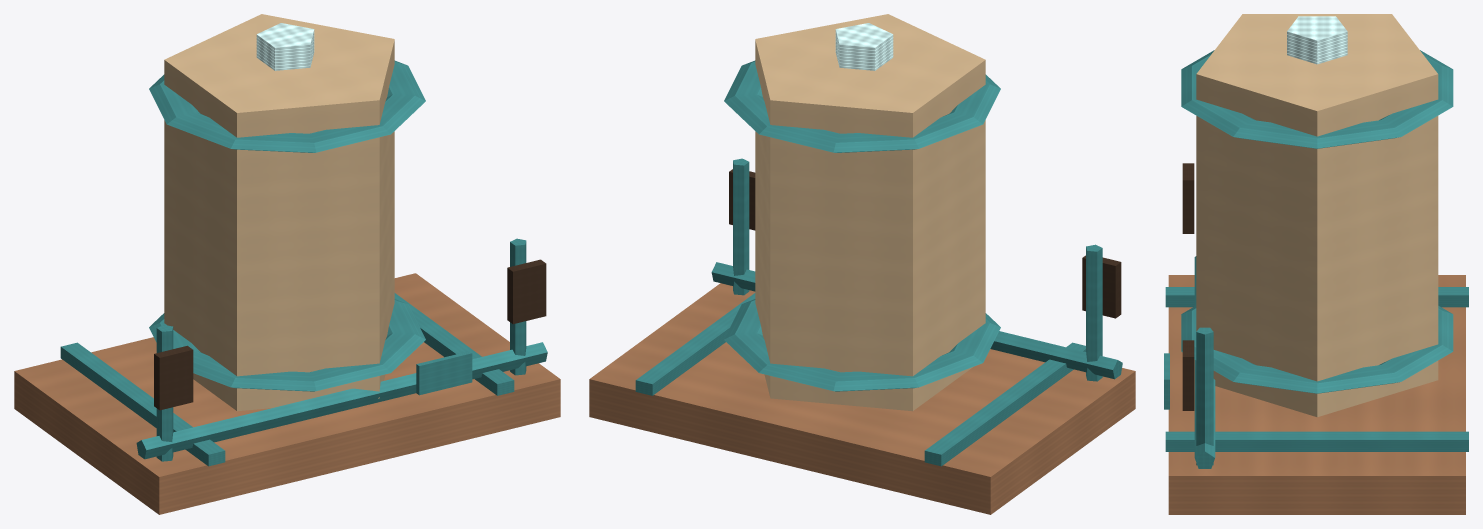
File: atlas100-s094-a02.lod1.glb
The picture shows the model from 3 angles, left to right: view 1: azimuth 30°, elevation 25°; view 2: azimuth 150°, elevation 25°; view 3: azimuth 270°, elevation 25°; orthographic projection. The views are drawn at different scales.
Parts seen in each view (by area): view 1: atlas100-s094-a02:part-003, atlas100-s094-a02:part-000, atlas100-s094-a02:part-011, atlas100-s094-a02:part-005, atlas100-s094-a02:part-004, atlas100-s094-a02:part-001, atlas100-s094-a02:part-006, atlas100-s094-a02:part-010, atlas100-s094-a02:part-008, atlas100-s094-a02:part-002, atlas100-s094-a02:part-012, atlas100-s094-a02:part-007 (+1 smaller); view 2: atlas100-s094-a02:part-003, atlas100-s094-a02:part-000, atlas100-s094-a02:part-005, atlas100-s094-a02:part-004, atlas100-s094-a02:part-001, atlas100-s094-a02:part-011, atlas100-s094-a02:part-002, atlas100-s094-a02:part-006, atlas100-s094-a02:part-009, atlas100-s094-a02:part-007, atlas100-s094-a02:part-008, atlas100-s094-a02:part-010; view 3: atlas100-s094-a02:part-003, atlas100-s094-a02:part-000, atlas100-s094-a02:part-005, atlas100-s094-a02:part-002, atlas100-s094-a02:part-004, atlas100-s094-a02:part-006, atlas100-s094-a02:part-009, atlas100-s094-a02:part-001, atlas100-s094-a02:part-011, atlas100-s094-a02:part-008, atlas100-s094-a02:part-010.
Boxes of the visible parts, x1,y1,x2,y2 form: atlas100-s094-a02:part-003: [164, 14, 394, 411]; atlas100-s094-a02:part-000: [14, 273, 560, 514]; atlas100-s094-a02:part-011: [136, 342, 547, 459]; atlas100-s094-a02:part-005: [149, 60, 425, 152]; atlas100-s094-a02:part-004: [149, 299, 425, 391]; atlas100-s094-a02:part-001: [60, 342, 225, 466]; atlas100-s094-a02:part-006: [256, 23, 314, 70]; atlas100-s094-a02:part-010: [507, 259, 546, 324]; atlas100-s094-a02:part-008: [154, 345, 193, 410]; atlas100-s094-a02:part-002: [394, 293, 514, 395]; atlas100-s094-a02:part-012: [416, 351, 472, 395]; atlas100-s094-a02:part-007: [156, 325, 173, 461]; atlas100-s094-a02:part-003: [755, 14, 985, 411]; atlas100-s094-a02:part-000: [589, 283, 1135, 514]; atlas100-s094-a02:part-005: [724, 60, 1000, 152]; atlas100-s094-a02:part-004: [724, 299, 1000, 391]; atlas100-s094-a02:part-001: [924, 342, 1085, 466]; atlas100-s094-a02:part-011: [711, 262, 1122, 379]; atlas100-s094-a02:part-002: [635, 293, 755, 395]; atlas100-s094-a02:part-006: [835, 23, 893, 70]; atlas100-s094-a02:part-009: [733, 158, 749, 295]; atlas100-s094-a02:part-007: [1086, 244, 1102, 381]; atlas100-s094-a02:part-008: [1082, 255, 1121, 318]; atlas100-s094-a02:part-010: [729, 169, 755, 230]; atlas100-s094-a02:part-003: [1196, 14, 1438, 417]; atlas100-s094-a02:part-000: [1168, 275, 1465, 514]; atlas100-s094-a02:part-005: [1181, 50, 1453, 148]; atlas100-s094-a02:part-002: [1165, 431, 1468, 451]; atlas100-s094-a02:part-004: [1181, 306, 1453, 393]; atlas100-s094-a02:part-006: [1287, 16, 1347, 64]; atlas100-s094-a02:part-009: [1196, 327, 1213, 465]; atlas100-s094-a02:part-001: [1165, 287, 1468, 307]; atlas100-s094-a02:part-011: [1194, 256, 1215, 468]; atlas100-s094-a02:part-008: [1182, 163, 1194, 233]; atlas100-s094-a02:part-010: [1182, 340, 1194, 410].
Size of the model in its own units: 2.88 by 2.59 by 1.85.
5 materials, 5 textured.
